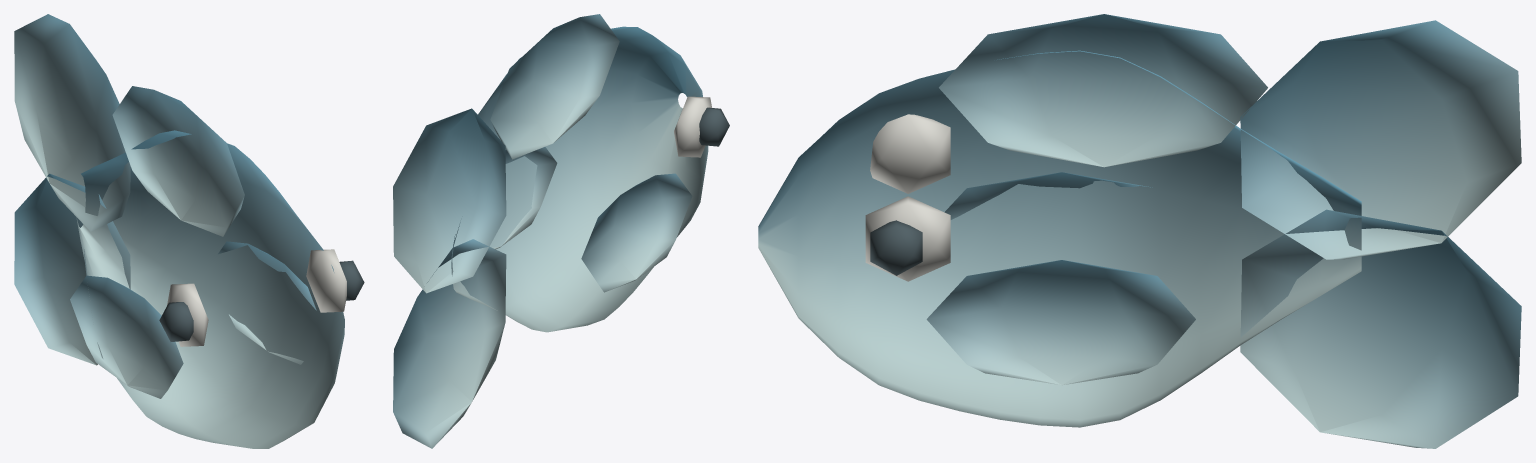
Rendered from fish_blue.glb.
3 renders of one model, left to right at view 1: azimuth 30°, elevation 25°; view 2: azimuth 150°, elevation 25°; view 3: azimuth 270°, elevation 25°, orthographic. The views are drawn at different scales.
Visible parts, largest first — view 1: world; view 2: world; view 3: world.
Part boxes in pixels (x1=…): world: x1=14, y1=14, x2=364, y2=448; world: x1=393, y1=14, x2=729, y2=448; world: x1=758, y1=14, x2=1521, y2=448.
Size of the model in its own units: 0.0742 by 0.1255 by 0.1986.
